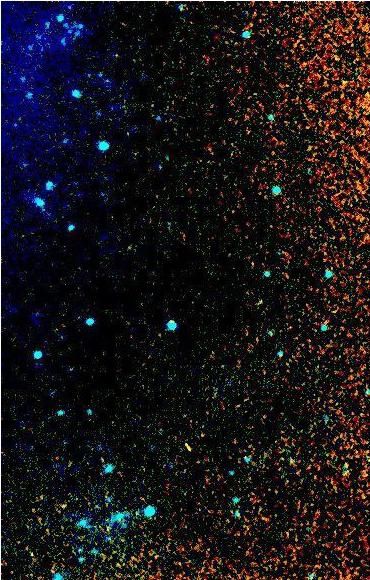star: (52, 495, 82, 525)
